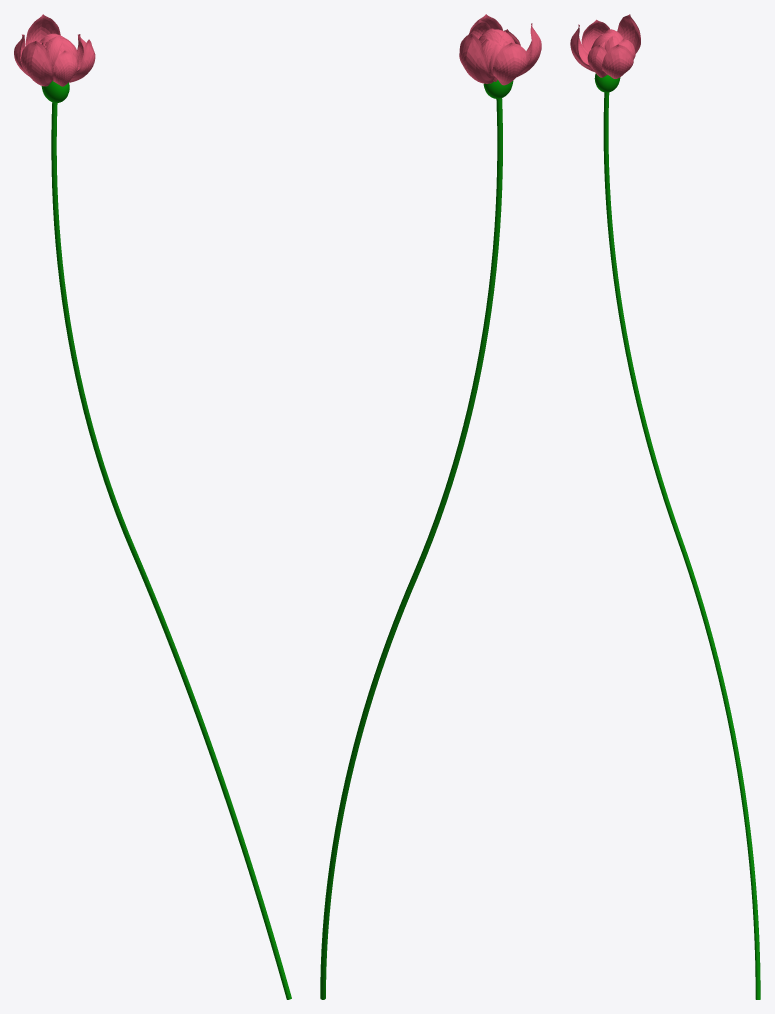
File: Lotus029.fbx
3 views of the same model, side by side, from view 1: azimuth 30°, elevation 25°; view 2: azimuth 150°, elevation 25°; view 3: azimuth 330°, elevation 25° (orthographic). The views are drawn at different scales.
Visible parts, largest first — view 1: pCylinder5, nurbsToPoly11, nurbsToPoly8; view 2: pCylinder5, nurbsToPoly10, nurbsToPoly12; view 3: pCylinder5, nurbsToPoly24, nurbsToPoly10, nurbsToPoly12, nurbsToPoly11.
Part boxes in pixels (x1,y1,x2,y2): pCylinder5: (51,102,291,999); nurbsToPoly11: (21,41,54,86); nurbsToPoly8: (53,50,78,86); pCylinder5: (320,98,502,999); nurbsToPoly10: (459,33,494,83); nurbsToPoly12: (492,42,528,85); pCylinder5: (603,92,760,999); nurbsToPoly24: (601,44,633,78); nurbsToPoly10: (617,14,640,53); nurbsToPoly12: (581,19,609,53); nurbsToPoly11: (570,24,594,71).
Bounding box in the file's own units: 50.37 × 203 × 21.58.
